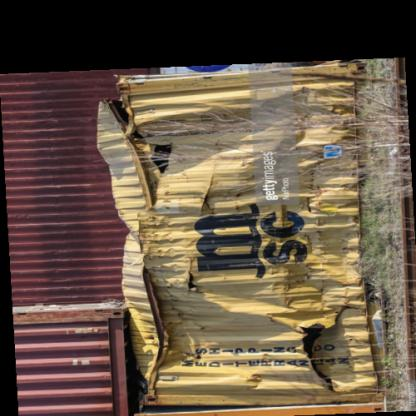Damage: (275, 282, 374, 398), (114, 252, 200, 382), (99, 84, 174, 206), (287, 63, 359, 141), (290, 155, 342, 262), (190, 157, 224, 244)
